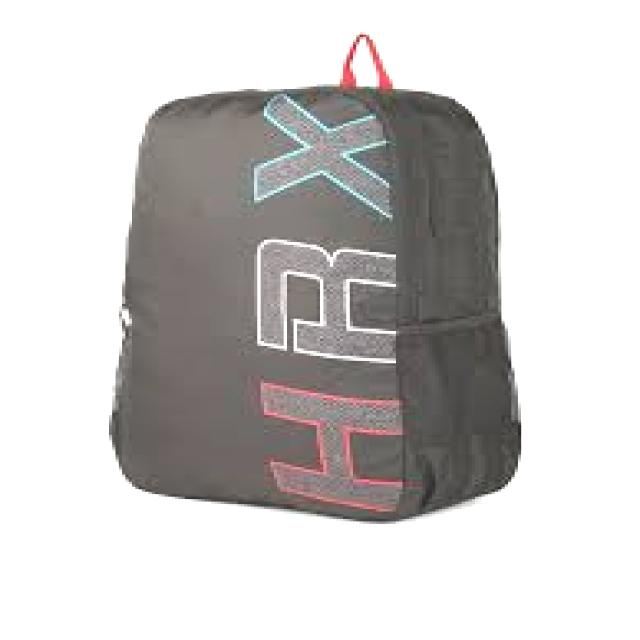backpack: (107, 33, 523, 523)
